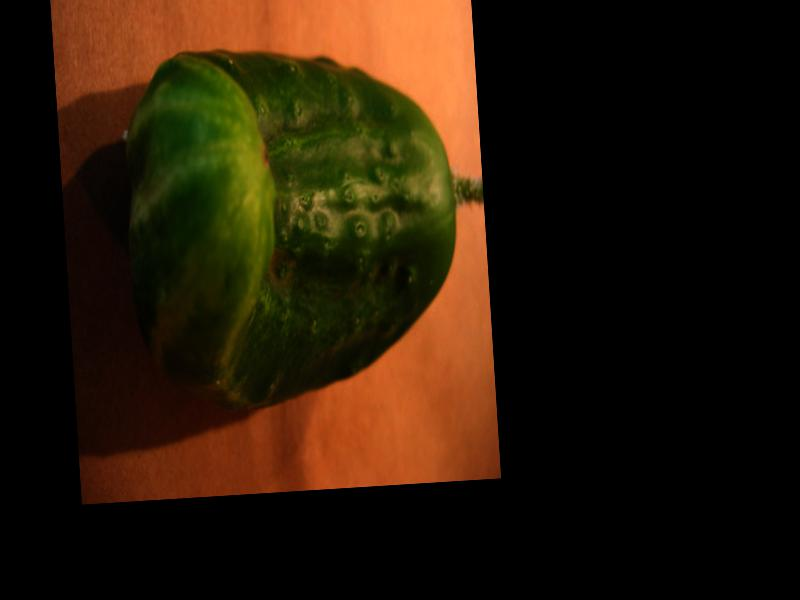Cucumber: (117, 32, 468, 412)
